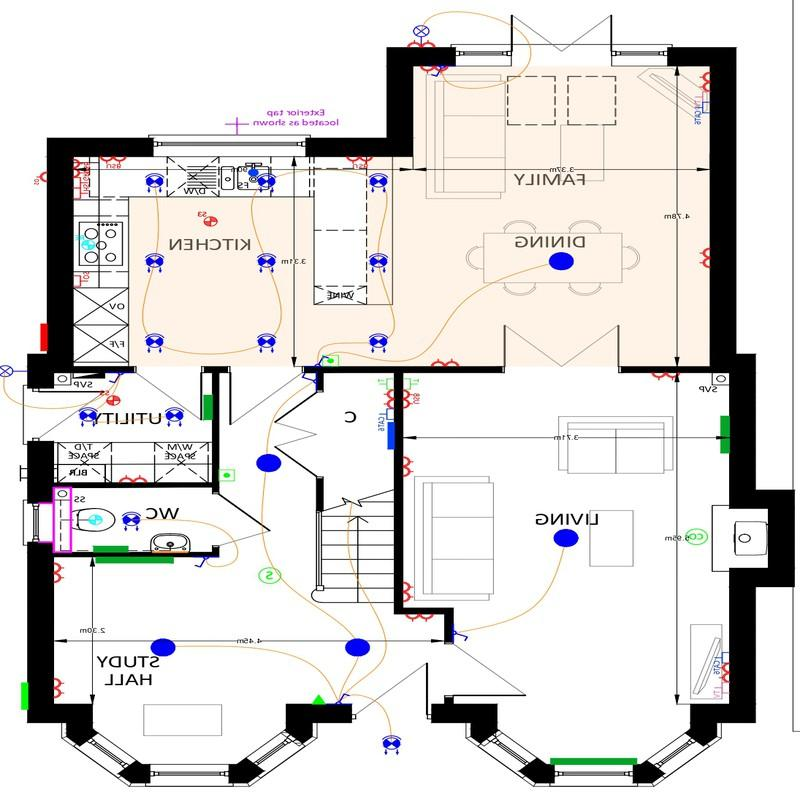BT Entry Point: (305, 688, 327, 707)
Cat 6 Data Socket: (368, 407, 397, 425), (685, 102, 712, 120), (713, 649, 731, 665)
Ceiling Mounted Continuous Extract Fan With Boost Mode Activated By Light Switch: (80, 503, 109, 533)
Ceiling Mounted Continuous Extract Fan With Local Boost Switch: (187, 198, 227, 234), (101, 387, 127, 413)
Co-Ax TV Socket: (709, 679, 731, 696), (686, 89, 712, 101)
Consumer Unit: (64, 369, 111, 385)
Double Socket: (110, 467, 163, 484), (400, 573, 423, 604), (399, 451, 418, 484), (50, 676, 72, 703), (653, 368, 684, 386), (696, 240, 710, 279), (373, 387, 397, 409), (402, 612, 437, 627), (51, 560, 68, 588), (417, 63, 451, 77), (428, 354, 464, 367), (711, 664, 731, 684), (695, 69, 711, 92), (407, 38, 439, 47)
Electric Meter Box: (34, 314, 47, 356)
External Wall Light: (1, 358, 27, 394), (408, 17, 436, 48)
Gas Meter Box: (9, 676, 28, 715)
Hob Switch: (73, 188, 90, 206)
Light Switch: (293, 369, 317, 393), (332, 683, 354, 706), (453, 626, 473, 650), (305, 352, 332, 369), (193, 557, 218, 574), (109, 367, 128, 388), (433, 66, 447, 80)
Low Energy Downlighter: (254, 324, 283, 363), (117, 505, 153, 536), (378, 727, 408, 762), (141, 248, 171, 280), (140, 326, 169, 357), (252, 250, 284, 278), (141, 168, 168, 200), (365, 327, 392, 358), (75, 407, 102, 435), (163, 403, 188, 433), (366, 247, 390, 278), (367, 170, 393, 198), (257, 169, 280, 199)
Low Energy Pendant Light: (538, 246, 587, 279), (548, 528, 592, 553), (341, 634, 375, 663), (256, 451, 284, 478), (149, 635, 178, 660)
Mains Wired Smoke Detector: (250, 559, 286, 593)
Outside Socket: (22, 166, 48, 194)
Outside Tap: (223, 114, 254, 134)
Oven Switch: (69, 265, 95, 303), (72, 175, 91, 188)
Programmable Room Thermostat: (218, 465, 238, 493), (322, 353, 341, 368)
Radiator: (86, 551, 182, 577), (543, 752, 642, 767), (84, 537, 131, 556), (198, 390, 215, 426), (717, 412, 730, 458)
Recirculating Extractor Fan: (72, 225, 108, 262)
Telephone Socket: (373, 369, 396, 394), (403, 372, 430, 391)
USB Double Socket: (401, 388, 427, 411), (341, 156, 375, 173), (97, 157, 129, 171), (72, 157, 94, 176)
Underfloor Heating Manifold: (383, 423, 396, 453)
Water Entry Position: (237, 163, 260, 181)
